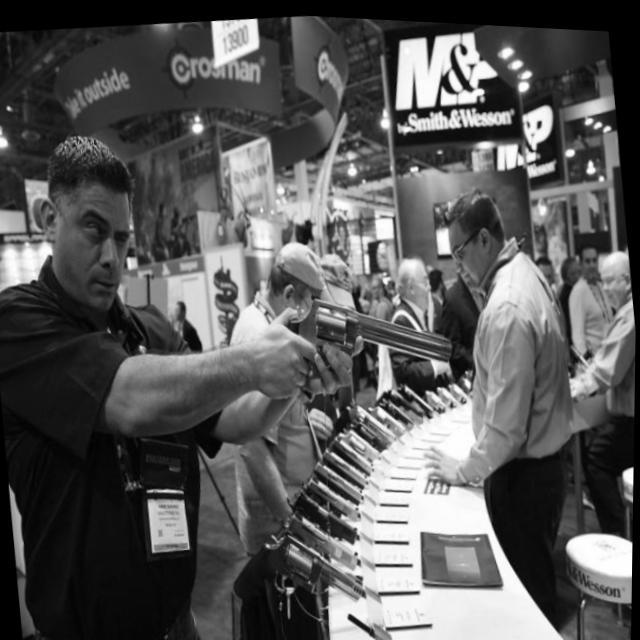weapon: (282, 274, 460, 389), (264, 514, 370, 612), (295, 478, 368, 558), (312, 451, 370, 506), (309, 466, 365, 522), (324, 424, 372, 478), (349, 598, 402, 640), (377, 388, 422, 430), (364, 404, 404, 446), (340, 421, 380, 462), (394, 382, 436, 421), (358, 415, 398, 450), (375, 394, 409, 434), (358, 570, 390, 610), (429, 383, 468, 415), (412, 382, 448, 414), (447, 375, 472, 405), (180, 213, 198, 224)
